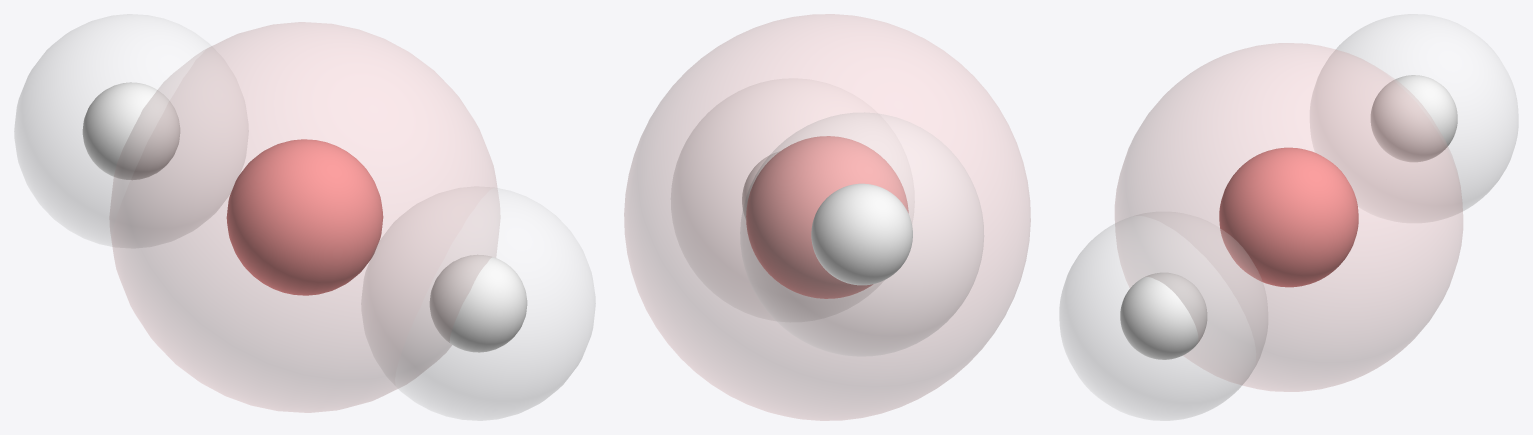
3 renders of one model, left to right at view 1: azimuth 30°, elevation 25°; view 2: azimuth 150°, elevation 25°; view 3: azimuth 270°, elevation 25°, orthographic. The views are drawn at different scales.
Visible parts, largest first — view 1: Oxygen, Hydrogen (×2); view 2: Oxygen, Hydrogen (×2); view 3: Oxygen, Hydrogen (×2).
Part boxes in pixels (bbox=[...]): Oxygen: bbox=[110, 22, 499, 412]; Hydrogen (×2): bbox=[14, 14, 595, 420]; Oxygen: bbox=[624, 14, 1030, 420]; Hydrogen (×2): bbox=[671, 79, 983, 356]; Oxygen: bbox=[1115, 43, 1462, 391]; Hydrogen (×2): bbox=[1059, 14, 1518, 420].
Size of the model in its own units: 4.83 by 3.99 by 5.26.
